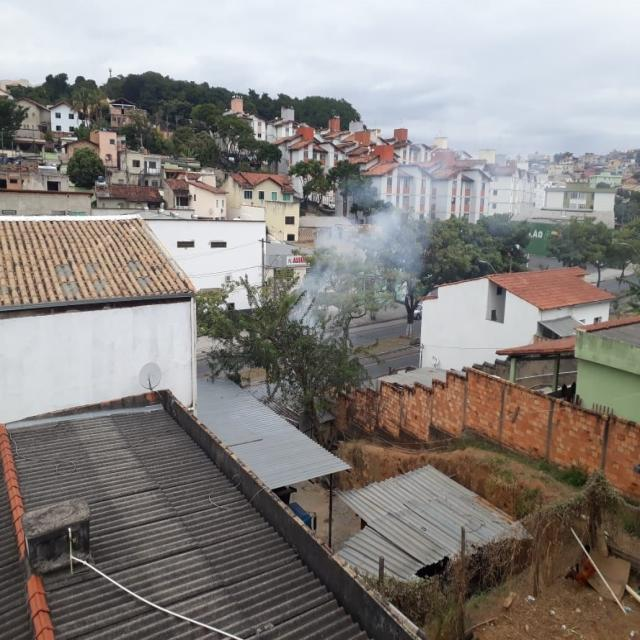smoke: (287, 202, 429, 324)
